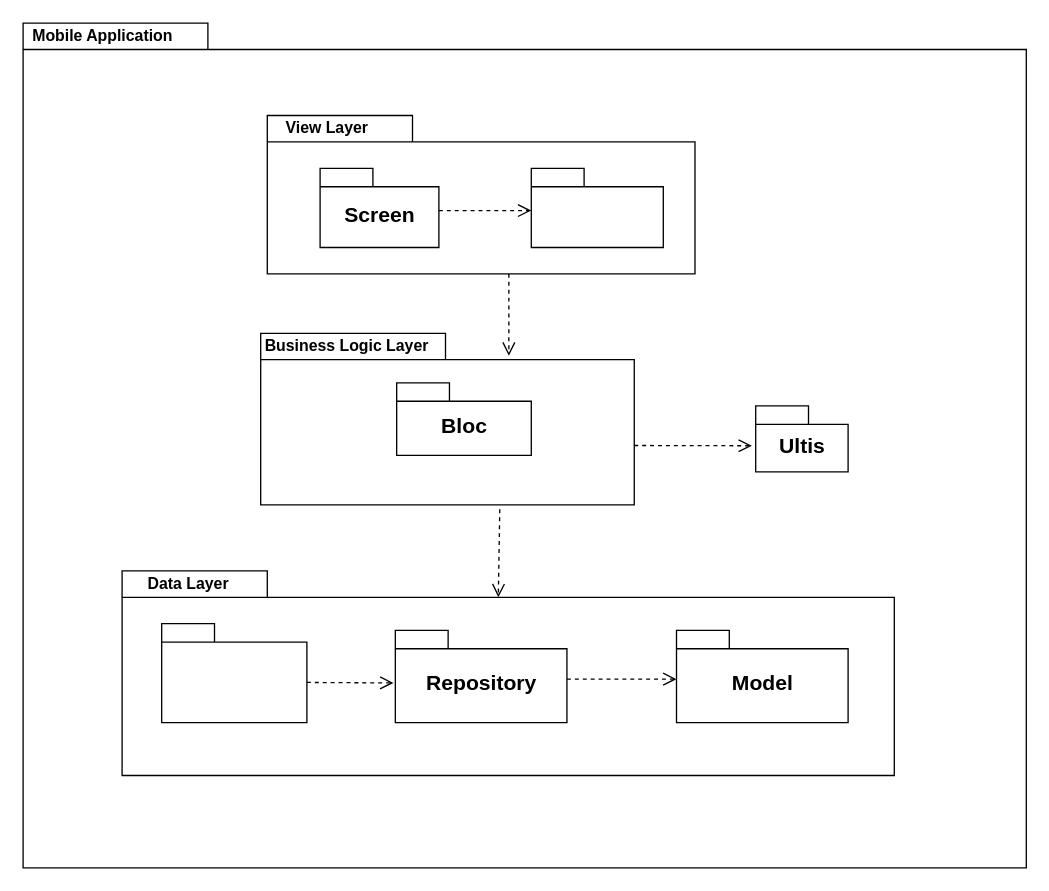
The diagram is 1049 pixels wide and 891 high, and some of its shapes have lost their labels. The shapes that lost their labels are listed below. From the top down, each one's centre as x and y in pixels, then its label:
At point (596, 207): "Component".
At point (233, 672): "Data Provider".
